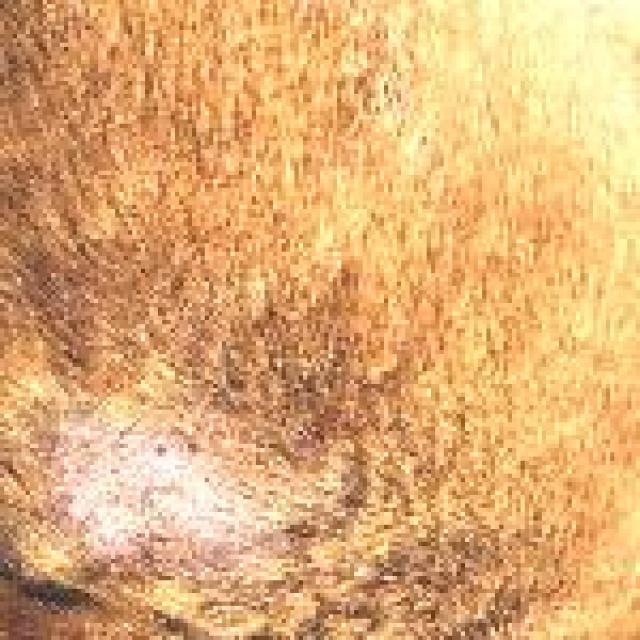fungal infection: (9, 17, 616, 578)
